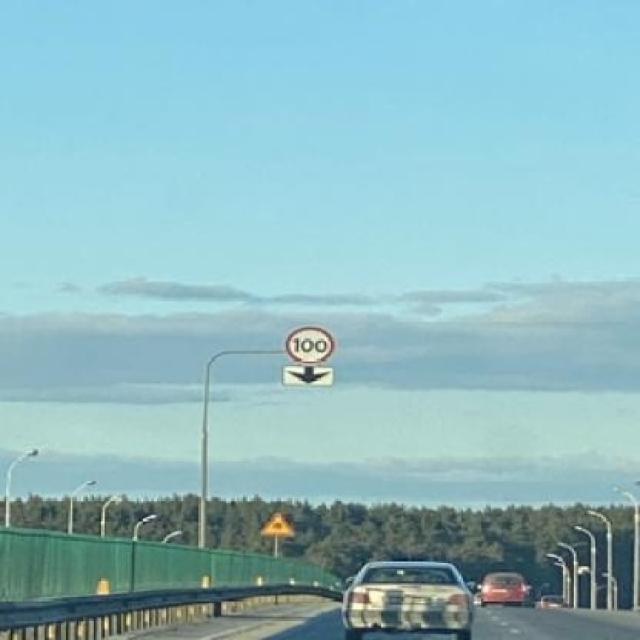forb_speed_over_100: (287, 323, 336, 366)
